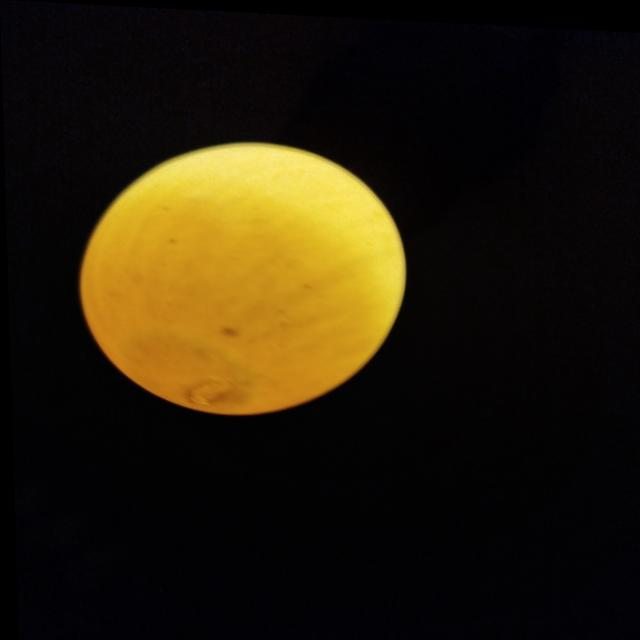Camara de Ar: (118, 338, 251, 408)
Rachadura: (184, 377, 234, 407)
